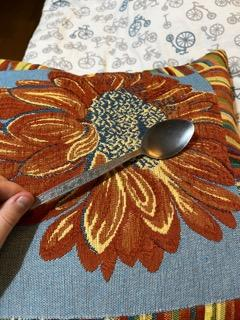spoon: (22, 118, 196, 211)
